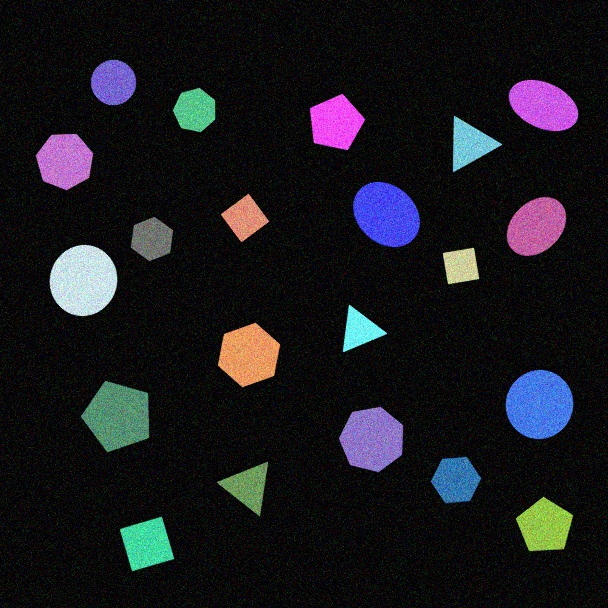Circulo: (49, 244, 118, 317), (505, 369, 574, 440), (90, 59, 137, 106)
Elipse: (352, 181, 421, 248), (508, 79, 579, 132), (506, 196, 567, 257)
Heptagono: (338, 406, 404, 473), (35, 133, 94, 191), (172, 87, 216, 133)
Hexagono: (217, 322, 281, 388), (430, 456, 482, 504), (130, 216, 174, 262)
Pentagono: (80, 380, 150, 453), (309, 93, 366, 151), (515, 496, 574, 552)
Quadrado: (119, 516, 175, 572), (220, 193, 270, 243), (442, 247, 480, 285)
Triangulo: (452, 115, 503, 173), (217, 461, 269, 517), (342, 304, 388, 353)
